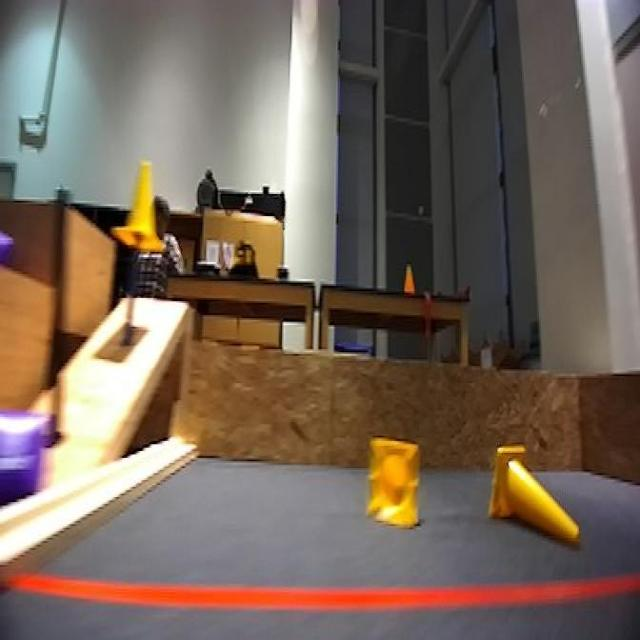frc_cone: (484, 441, 586, 551), (117, 148, 172, 266), (365, 438, 425, 531)
frc_cube: (0, 405, 48, 531), (0, 204, 20, 267)
